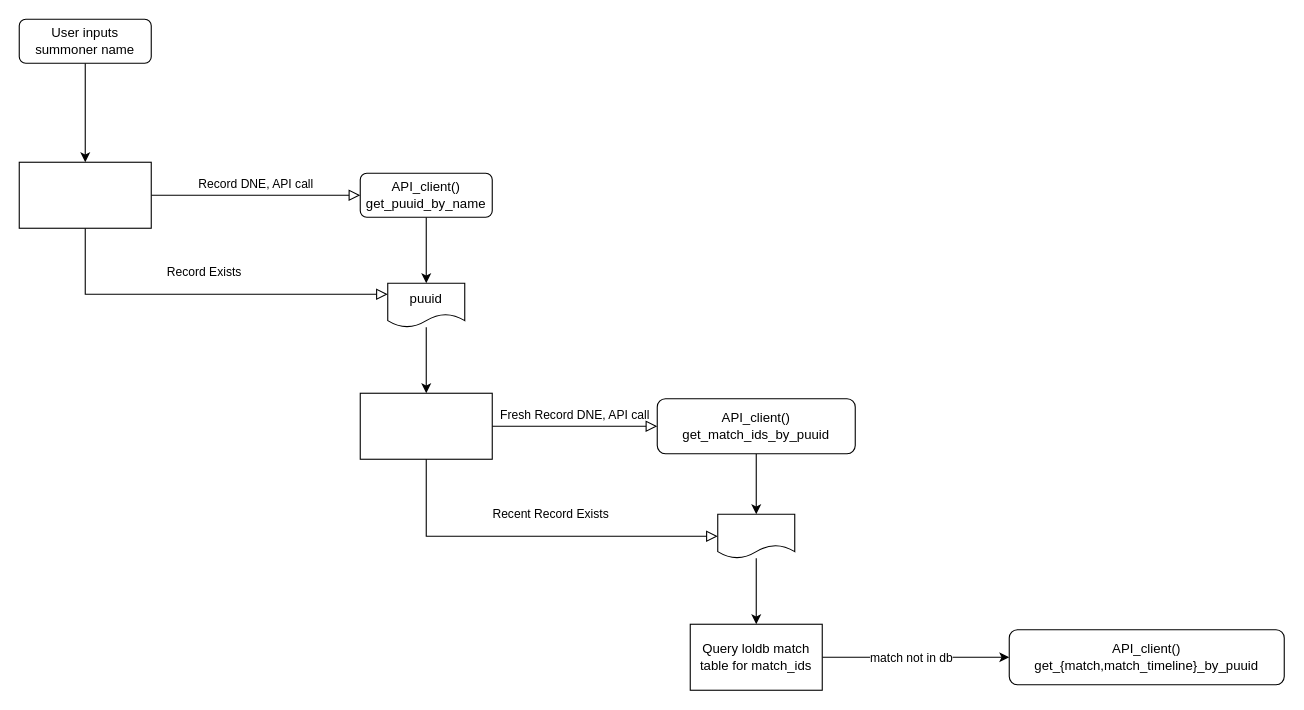
This 1304x710 diagram has some shape labels left out. Here are the shapes that lost their labels. From the top down, the centre of each, then its label:
At point 84,194: "Query loldb summoner table for summoner name".
At point 425,425: "Query loldb match_id table for puuid".
At point 756,535: "match_ids".
